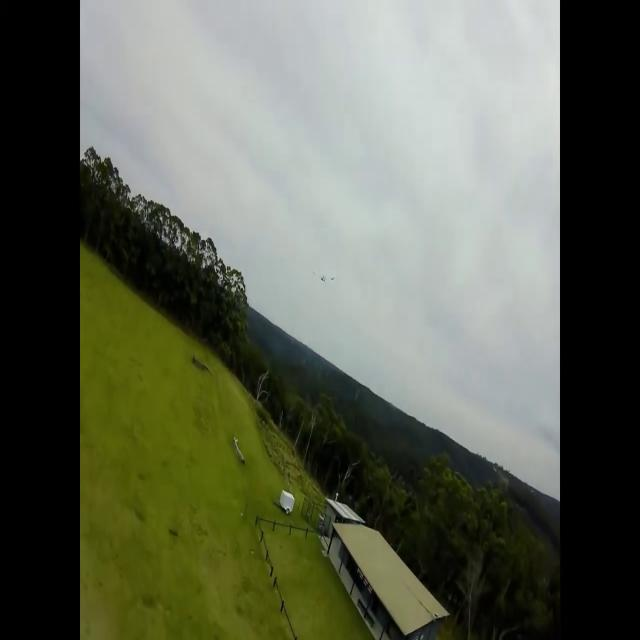iha: (312, 268, 340, 285)
